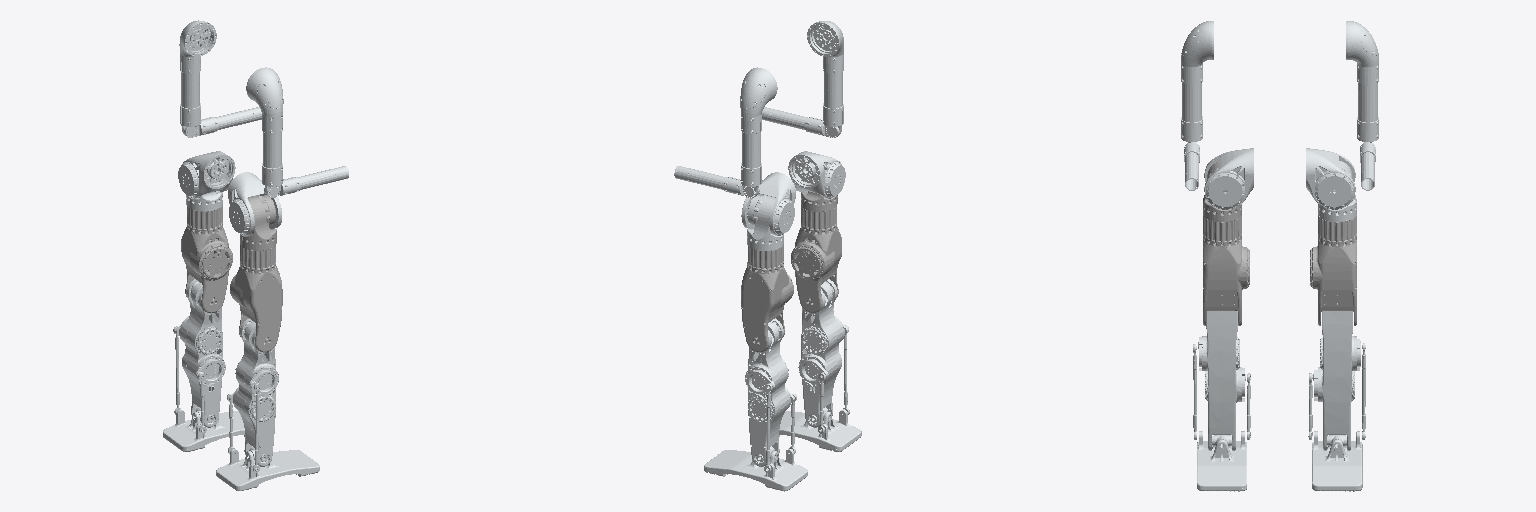
The robot description file, URDF, robot "urdf-20250211":
<?xml version="1.0" encoding="utf-8"?>
<robot
  name="urdf-20250211">
  <mujoco>
        <compiler 
        meshdir="../meshes/" 
        balanceinertia="true" 
        discardvisual="false" />
  </mujoco>
  <link
    name="base_thorax">
    <inertial>
      <origin
        xyz="0.0071545 -0.00014864 0.10711"
        rpy="0 0 0" />
      <!--<mass-->
      <!--  value="18.114" />-->
      <mass
        value="21.7513" />
      <inertia
        ixx="0.096973"
        ixy="-2.6251E-05"
        ixz="0.00041701"
        iyy="0.056865"
        iyz="2.8904E-05"
        izz="0.10587" />
    </inertial>
    <visual>
      <origin
        xyz="0 0 0"
        rpy="0 0 0" />
      <geometry>
        <mesh
          filename="../meshes/base_thorax.STL" />
      </geometry>
      <material
        name="">
        <color
          rgba="0.89804 0.91765 0.92941 1" />
      </material>
    </visual>
    <collision>
      <origin xyz="0 0 0.2" rpy="0 0 0"/>
      <geometry>
        <box size="0.4 0.35 0.6"/>
      </geometry>
    </collision>
  </link>
  <link
    name="Lleg_hip_p">
    <inertial>
      <origin
        xyz="-0.0065868 0.038281 -0.019058"
        rpy="0 0 0" />
      <mass
        value="0.79889" />
      <inertia
        ixx="0.0016035"
        ixy="1.5686E-08"
        ixz="9.1356E-09"
        iyy="0.0015643"
        iyz="0.00011528"
        izz="0.0013847" />
    </inertial>
    <visual>
      <origin
        xyz="0 0 0"
        rpy="0 0 0" />
      <geometry>
        <mesh
          filename="../meshes/Lleg_hip_p.STL" />
      </geometry>
      <material
        name="">
        <color
          rgba="0.89804 0.91765 0.92941 1" />
      </material>
    </visual>
  </link>
  <joint
    name="Lleg_hip_p_joint"
    type="revolute">
    <origin
      xyz="0.0074413 0.070763 -0.096701"
      rpy="-2.9839E-05 0 -1.2361E-05" />
    <parent
      link="base_thorax" />
    <child
      link="Lleg_hip_p" />
    <axis
      xyz="0 -1 0" />
    <limit
      lower="-1.5708"
      upper="3.1416"
      effort="250"
      velocity="5000" />
  </joint>
  <link
    name="Lleg_hip_r">
    <inertial>
      <origin
        xyz="0.041051 0.0017918 -0.012588"
        rpy="0 0 0" />
      <mass
        value="2.2937" />
      <inertia
        ixx="0.0024447"
        ixy="-1.2696E-05"
        ixz="8.244E-05"
        iyy="0.0016929"
        iyz="3.4648E-05"
        izz="0.0018226" />
    </inertial>
    <visual>
      <origin
        xyz="0 0 0"
        rpy="0 0 0" />
      <geometry>
        <mesh
          filename="../meshes/Lleg_hip_r.STL" />
      </geometry>
      <material
        name="">
        <color
          rgba="0.89804 0.91765 0.92941 1" />
      </material>
    </visual>
    <collision>
      <origin xyz="0.05 0.0 -0.225" rpy="0 0 0"/>
      <geometry>
        <cylinder radius="0.05" length="0.2"/>
      </geometry>
    </collision>
  </link>
  <joint
    name="Lleg_hip_r_joint"
    type="revolute">
    <origin
      xyz="-0.048264 0.063739 -0.039998"
      rpy="-2.9839E-05 -3.118E-05 1.2362E-05" />
    <parent
      link="Lleg_hip_p" />
    <child
      link="Lleg_hip_r" />
    <axis
      xyz="1 0 0" />
    <limit
      lower="-0.12217"
      upper="0.52359" 
      effort="100"
      velocity="5000" />
  </joint>
  <link
    name="Lleg_hip_y">
    <inertial>
      <origin
        xyz="0.0012764 -0.012311 -0.11618"
        rpy="0 0 0" />
      <mass
        value="4.5531" />
      <inertia
        ixx="0.0060244"
        ixy="-1.1206E-05"
        ixz="0.00017115"
        iyy="0.0072895"
        iyz="-0.00032616"
        izz="0.0043397" />
    </inertial>
    <visual>
      <origin
        xyz="0 0 0"
        rpy="0 0 0" />
      <geometry>
        <mesh
          filename="../meshes/Lleg_hip_y.STL" />
      </geometry>
      <material
        name="">
        <color
          rgba="0.75294 0.75294 0.75294 1" />
      </material>
    </visual>
  </link>
  <joint
    name="Lleg_hip_y_joint"
    type="revolute">
    <origin
      xyz="0.048263 0.0075949 -0.073228"
      rpy="-0.0012842 0 0" />
    <parent
      link="Lleg_hip_r" />
    <child
      link="Lleg_hip_y" />
    <axis
      xyz="0 0 1" />
    <limit
      lower="-1.0472"
      upper="1.2217" 
      effort="100"
      velocity="5000" />
  </joint>
  <link
    name="Lleg_knee">
    <inertial>
      <origin
        xyz="-0.0071953 0.00012337 -0.15866"
        rpy="0 0 0" />
      <mass
        value="4.1746" />
      <inertia
        ixx="0.015917"
        ixy="-5.6662E-06"
        ixz="-9.5855E-05"
        iyy="0.017102"
        iyz="-0.00022504"
        izz="0.0020767" />
    </inertial>
    <visual>
      <origin
        xyz="0 0 0"
        rpy="0 0 0" />
      <geometry>
        <mesh
          filename="../meshes/Lleg_knee.STL" />
      </geometry>
      <material
        name="">
        <color
          rgba="0.89804 0.91765 0.92941 1" />
      </material>
    </visual>
    <collision>
      <origin xyz="0 0 -0.175" rpy="0 0 0"/>
      <geometry>
        <cylinder radius="0.05" length="0.25"/>
      </geometry>
    </collision>
  </link>
  <joint
    name="Lleg_knee_joint"
    type="revolute">
    <origin
      xyz="0 0 -0.27926"
      rpy="0 0 0" />
    <parent
      link="Lleg_hip_y" />
    <child
      link="Lleg_knee" />
    <axis
      xyz="0 -1 0" />
    <limit
      lower="-1.5708"
      upper="0"
      effort="250"
      velocity="5000" />
  </joint>
  <link
    name="Lleg_ankle_p">
    <inertial>
      <origin
        xyz="0.0010341 -8.5615E-08 7.218E-08"
        rpy="0 0 0" />
      <mass
        value="0.15381" />
      <inertia
        ixx="2.9623E-05"
        ixy="-2.687E-10"
        ixz="-5.7763E-10"
        iyy="2.6222E-05"
        iyz="8.9807E-10"
        izz="4.3137E-05" />
    </inertial>
    <visual>
      <origin
        xyz="0 0 0"
        rpy="0 0 0" />
      <geometry>
        <mesh
          filename="../meshes/Lleg_ankle_p.STL" />
      </geometry>
      <material
        name="">
        <color
          rgba="0.89804 0.91765 0.92941 1" />
      </material>
    </visual>
  </link>
  <joint
    name="Lleg_ankle_p_joint"
    type="revolute">
    <origin
      xyz="0 0 -0.35"
      rpy="0 0 0" />
    <parent
      link="Lleg_knee" />
    <child
      link="Lleg_ankle_p" />
    <axis
      xyz="0 1 0" />
    <!--lower="-0.6108"-->
    <!--upper="0.6108"-->
    <limit
      lower="-0.6981317007977318"
      upper="0.6981317007977318"
      effort="100"
      velocity="5000" />
  </joint>
  <link
    name="Lleg_ankle_r">
    <inertial>
      <origin
        xyz="0.021653 2.4677E-08 -0.044273"
        rpy="0 0 0" />
      <mass
        value="0.87283" />
      <inertia
        ixx="0.0012516"
        ixy="-1.099E-08"
        ixz="0.00011963"
        iyy="0.0029662"
        iyz="-3.6099E-10"
        izz="0.0039874" />
    </inertial>
    <visual>
      <origin
        xyz="0 0 0"
        rpy="0 0 0" />
      <geometry>
        <mesh
          filename="../meshes/Lleg_ankle_r.STL" />
      </geometry>
      <material
        name="">
        <color
          rgba="0.89804 0.91765 0.92941 1" />
      </material>
    </visual>
    <collision>
      <geometry>
        <mesh
          filename="../meshes/Lleg_ankle_r.STL" />
      </geometry>
    </collision>
  </link>
  <joint
    name="Lleg_ankle_r_joint"
    type="revolute">
    <origin
      xyz="0 0 0"
      rpy="0 0 0" />
    <parent
      link="Lleg_ankle_p" />
    <child
      link="Lleg_ankle_r" />
    <axis
      xyz="1 0 0" />
    <!--lower="-0.17453292519943295"-->
    <!--upper="0.17453292519943295"-->
    <limit
      lower="-0.3490658503988659"
      upper="0.3490658503988659"
      effort="100"
      velocity="5000" />
  </joint>
  <link
    name="Rleg_hip_p">
    <inertial>
      <origin
        xyz="-0.0065825 -0.038282 -0.019058"
        rpy="0 0 0" />
      <mass
        value="0.79889" />
      <inertia
        ixx="0.0016035"
        ixy="-1.5667E-08"
        ixz="-9.2038E-09"
        iyy="0.0015643"
        iyz="-0.00011529"
        izz="0.0013847" />
    </inertial>
    <visual>
      <origin
        xyz="0 0 0"
        rpy="0 0 0" />
      <geometry>
        <mesh
          filename="../meshes/Rleg_hip_p.STL" />
      </geometry>
      <material
        name="">
        <color
          rgba="0.89804 0.91765 0.92941 1" />
      </material>
    </visual>
  </link>
  <joint
    name="Rleg_hip_p_joint"
    type="revolute">
    <origin
      xyz="0.0074402 -0.070762 -0.096701"
      rpy="2.9839E-05 0 -1.2361E-05" />
    <parent
      link="base_thorax" />
    <child
      link="Rleg_hip_p" />
    <axis
      xyz="0 -1 0" />
    <limit
      lower="-1.5708"
      upper="3.1416"
      effort="250"
      velocity="5000" />
  </joint>
  <link
    name="Rleg_hip_r">
    <inertial>
      <origin
        xyz="0.040804 -0.0018825 -0.012645"
        rpy="0 0 0" />
      <mass
        value="2.2802" />
      <inertia
        ixx="0.0024443"
        ixy="1.499E-05"
        ixz="8.1453E-05"
        iyy="0.0016917"
        iyz="-3.5389E-05"
        izz="0.0018218" />
    </inertial>
    <visual>
      <origin
        xyz="0 0 0"
        rpy="0 0 0" />
      <geometry>
        <mesh
          filename="../meshes/Rleg_hip_r.STL" />
      </geometry>
      <material
        name="">
        <color
          rgba="0.75294 0.75294 0.75294 1" />
      </material>
    </visual>
    <collision>
      <origin xyz="0.05 0.0 -0.225" rpy="0 0 0"/>
      <geometry>
        <cylinder radius="0.05" length="0.2"/>
      </geometry>
    </collision>
  </link>
  <joint
    name="Rleg_hip_r_joint"
    type="revolute">
    <origin
      xyz="-0.048261 -0.063738 -0.039998"
      rpy="-2.9839E-05 -3.118E-05 1.2362E-05" />
    <parent
      link="Rleg_hip_p" />
    <child
      link="Rleg_hip_r" />
    <axis
      xyz="1 0 0" />
    <limit
      lower="-0.52359"
      upper="0.12217" 
      effort="100"
      velocity="5000" />
  </joint>
  <link
    name="Rleg_hip_y">
    <inertial>
      <origin
        xyz="0.0012764 0.012311 -0.11618"
        rpy="0 0 0" />
      <mass
        value="4.5154" />
      <inertia
        ixx="0.0059932"
        ixy="1.1193E-05"
        ixz="0.00017278"
        iyy="0.0072308"
        iyz="0.000326"
        izz="0.0043094" />
    </inertial>
    <visual>
      <origin
        xyz="0 0 0"
        rpy="0 0 0" />
      <geometry>
        <mesh
          filename="../meshes/Rleg_hip_y.STL" />
      </geometry>
      <material
        name="">
        <color
          rgba="0.75294 0.75294 0.75294 1" />
      </material>
    </visual>
  </link>
  <joint
    name="Rleg_hip_y_joint"
    type="revolute">
    <origin
      xyz="0.048263 -0.0075949 -0.073228"
      rpy="-0.0012842 3.118E-05 0" />
    <parent
      link="Rleg_hip_r" />
    <child
      link="Rleg_hip_y" />
    <axis
      xyz="0 0 1" />
    <limit
      lower="-1.2217"
      upper="1.0472"
      effort="100"
      velocity="5000" />
  </joint>
  <link
    name="Rleg_knee">
    <inertial>
      <origin
        xyz="-0.0071953 -0.00012337 -0.15866"
        rpy="0 0 0" />
      <mass
        value="4.1724" />
      <inertia
        ixx="0.015917"
        ixy="6.1742E-06"
        ixz="-9.365E-05"
        iyy="0.017101"
        iyz="0.0002262"
        izz="0.002076" />
    </inertial>
    <visual>
      <origin
        xyz="0 0 0"
        rpy="0 0 0" />
      <geometry>
        <mesh
          filename="../meshes/Rleg_knee.STL" />
      </geometry>
      <material
        name="">
        <color
          rgba="0.89804 0.91765 0.92941 1" />
      </material>
    </visual>
    <collision>
      <origin xyz="0 0 -0.175" rpy="0 0 0"/>
      <geometry>
        <cylinder radius="0.05" length="0.25"/>
      </geometry>
    </collision>
  </link>
  <joint
    name="Rleg_knee_joint"
    type="revolute">
    <origin
      xyz="0 0 -0.27926"
      rpy="0 0 0" />
    <parent
      link="Rleg_hip_y" />
    <child
      link="Rleg_knee" />
    <axis
      xyz="0 -1 0" />
    <limit
      lower="-1.5708"
      upper="0"
      effort="250"
      velocity="5000" />
  </joint>
  <link
    name="Rleg_ankle_p">
    <inertial>
      <origin
        xyz="0.0010341 8.5615E-08 7.218E-08"
        rpy="0 0 0" />
      <mass
        value="0.15381" />
      <inertia
        ixx="2.9623E-05"
        ixy="-2.687E-10"
        ixz="5.7763E-10"
        iyy="2.6222E-05"
        iyz="-8.9807E-10"
        izz="4.3137E-05" />
    </inertial>
    <visual>
      <origin
        xyz="0 0 0"
        rpy="0 0 0" />
      <geometry>
        <mesh
          filename="../meshes/Rleg_ankle_p.STL" />
      </geometry>
      <material
        name="">
        <color
          rgba="0.89804 0.91765 0.92941 1" />
      </material>
    </visual>
  </link>
  <joint
    name="Rleg_ankle_p_joint"
    type="revolute">
    <origin
      xyz="0 0 -0.35"
      rpy="0 0 0" />
    <parent
      link="Rleg_knee" />
    <child
      link="Rleg_ankle_p" />
    <axis
      xyz="0 1 0" />
    <!--lower="-0.6108"-->
    <!--upper="0.6108" -->
    <limit
      lower="-0.6981317007977318"
      upper="0.6981317007977318"
      effort="100"
      velocity="5000" />
  </joint>
  <link
    name="Rleg_ankle_r">
    <inertial>
      <origin
        xyz="0.021653 -2.4677E-08 -0.044273"
        rpy="0 0 0" />
      <mass
        value="0.87283" />
      <inertia
        ixx="0.0012516"
        ixy="-1.0994E-08"
        ixz="0.00011963"
        iyy="0.0029662"
        iyz="-3.5856E-10"
        izz="0.0039874" />
    </inertial>
    <visual>
      <origin
        xyz="0 0 0"
        rpy="0 0 0" />
      <geometry>
        <mesh
          filename="../meshes/Rleg_ankle_r.STL" />
      </geometry>
      <material
        name="">
        <color
          rgba="0.89804 0.91765 0.92941 1" />
      </material>
    </visual>
    <collision>
      <geometry>
        <mesh
          filename="../meshes/Rleg_ankle_r.STL" />
      </geometry>
    </collision>
  </link>
  <joint
    name="Rleg_ankle_r_joint"
    type="revolute">
    <origin
      xyz="0 0 0"
      rpy="0 0 0" />
    <parent
      link="Rleg_ankle_p" />
    <child
      link="Rleg_ankle_r" />
    <axis
      xyz="1 0 0" />
    <!--lower="-0.17453292519943295"-->
    <!--upper="0.17453292519943295"-->
    <limit
      lower="-0.3490658503988659"
      upper="0.3490658503988659"
      effort="100"
      velocity="5000" />
  </joint>
  <link
    name="Larm_shoulder_p">
    <inertial>
      <origin
        xyz="-4.1326E-06 0.029486 -0.15771"
        rpy="0 0 0" />
      <mass
        value="0.8019" />
      <inertia
        ixx="0.001659"
        ixy="-4.75E-09"
        ixz="2.8129E-09"
        iyy="0.0017524"
        iyz="0.00017891"
        izz="0.00054732" />
    </inertial>
    <visual>
      <origin
        xyz="0 0 0"
        rpy="0 0 0" />
      <geometry>
        <mesh
          filename="../meshes/Larm_shoulder_p.STL" />
      </geometry>
      <material
        name="">
        <color
          rgba="0.89804 0.91765 0.92941 1" />
      </material>
    </visual>
  </link>
  <joint
    name="Larm_shoulder_p_joint"
    type="fixed">
    <origin
      xyz="0.0074411 0.17676 0.2503"
      rpy="-3.118E-05 0 0" />
    <parent
      link="base_thorax" />
    <child
      link="Larm_shoulder_p" />
    <axis
      xyz="0 -1 0" />
    <limit
      lower="-3.1416"
      upper="3.1416"
      effort="100"
      velocity="5000" />
  </joint>
  <link
    name="Rarm_shoulder_p">
    <inertial>
      <origin
        xyz="0.00015217 -0.029574 -0.15842"
        rpy="0 0 0" />
      <mass
        value="0.80628" />
      <inertia
        ixx="0.0016592"
        ixy="1.6228E-07"
        ixz="1.033E-06"
        iyy="0.0017528"
        iyz="-0.00017891"
        izz="0.00054756" />
    </inertial>
    <visual>
      <origin
        xyz="0 0 0"
        rpy="0 0 0" />
      <geometry>
        <mesh
          filename="../meshes/Rarm_shoulder_p.STL" />
      </geometry>
      <material
        name="">
        <color
          rgba="0.89804 0.91765 0.92941 1" />
      </material>
    </visual>
  </link>
  <joint
    name="Rarm_shoulder_p_joint"
    type="fixed">
    <origin
      xyz="0.0074404 -0.17676 0.2503"
      rpy="3.1181E-05 0.0016214 0" />
    <parent
      link="base_thorax" />
    <child
      link="Rarm_shoulder_p" />
    <axis
      xyz="0 -1 0" />
    <limit
      lower="-3.1416"
      upper="3.1416"
      effort="100"
      velocity="5000" />
  </joint>
</robot>

--- Render facts (derived) ---
3 views of the same robot in one strip: view 1: azimuth 30°, elevation 25°; view 2: azimuth 150°, elevation 25°; view 3: azimuth 270°, elevation 25° (orthographic).
Robot: urdf-20250211 — 15 links, 14 joints (12 revolute, 2 fixed); root link base_thorax; default pose: all joints at 0.
Links seen in each view (by area): view 1: Lleg_knee, Rleg_knee, Rarm_shoulder_p, Rleg_hip_y, Lleg_hip_y, Larm_shoulder_p, Rleg_ankle_r, Lleg_hip_p, Lleg_ankle_r, Rleg_hip_p, Rleg_hip_r, Lleg_hip_r; view 2: Rleg_knee, Lleg_knee, Larm_shoulder_p, Lleg_hip_y, Rleg_hip_y, Rarm_shoulder_p, Lleg_ankle_r, Rleg_hip_p, Rleg_ankle_r, Lleg_hip_p, Lleg_hip_r, Rleg_hip_r; view 3: Lleg_knee, Rleg_knee, Rleg_hip_y, Lleg_hip_y, Rarm_shoulder_p, Larm_shoulder_p, Lleg_ankle_r, Rleg_ankle_r, Rleg_hip_p, Lleg_hip_p, Lleg_hip_r, Rleg_hip_r.
Link boxes in pixels (bbox=[...]): Lleg_knee: bbox=[173, 279, 225, 433]; Rleg_knee: bbox=[227, 318, 278, 472]; Rarm_shoulder_p: bbox=[246, 67, 348, 197]; Rleg_hip_y: bbox=[230, 245, 282, 352]; Lleg_hip_y: bbox=[181, 206, 232, 312]; Larm_shoulder_p: bbox=[179, 20, 261, 137]; Rleg_ankle_r: bbox=[216, 449, 319, 490]; Lleg_hip_p: bbox=[178, 151, 235, 198]; Lleg_ankle_r: bbox=[163, 409, 244, 451]; Rleg_hip_p: bbox=[228, 172, 281, 235]; Rleg_hip_r: bbox=[240, 195, 276, 250]; Lleg_hip_r: bbox=[186, 177, 222, 211]; Rleg_knee: bbox=[798, 279, 849, 433]; Lleg_knee: bbox=[745, 318, 796, 472]; Larm_shoulder_p: bbox=[674, 67, 777, 197]; Lleg_hip_y: bbox=[741, 245, 793, 352]; Rleg_hip_y: bbox=[791, 206, 841, 312]; Rarm_shoulder_p: bbox=[762, 21, 843, 137]; Lleg_ankle_r: bbox=[704, 449, 807, 491]; Rleg_hip_p: bbox=[788, 151, 845, 198]; Rleg_ankle_r: bbox=[779, 409, 861, 451]; Lleg_hip_p: bbox=[741, 172, 795, 235]; Lleg_hip_r: bbox=[747, 195, 783, 250]; Rleg_hip_r: bbox=[801, 177, 837, 211]; Lleg_knee: bbox=[1308, 303, 1365, 450]; Rleg_knee: bbox=[1193, 311, 1250, 450]; Rleg_hip_y: bbox=[1203, 216, 1249, 325]; Lleg_hip_y: bbox=[1310, 216, 1356, 325]; Rarm_shoulder_p: bbox=[1181, 21, 1213, 190]; Larm_shoulder_p: bbox=[1346, 21, 1378, 190]; Lleg_ankle_r: bbox=[1312, 431, 1362, 491]; Rleg_ankle_r: bbox=[1197, 431, 1246, 491]; Rleg_hip_p: bbox=[1204, 148, 1253, 209]; Lleg_hip_p: bbox=[1306, 148, 1355, 209]; Lleg_hip_r: bbox=[1318, 161, 1356, 221]; Rleg_hip_r: bbox=[1203, 161, 1241, 221].
Size in the robot's own frame: 0.326 by 0.49 by 1.21 metres.
Meshes: 15 distinct files referenced, 14 mesh visuals loaded (14 binary STL); not drawn: 1 (reference not matched to a file when rendering).